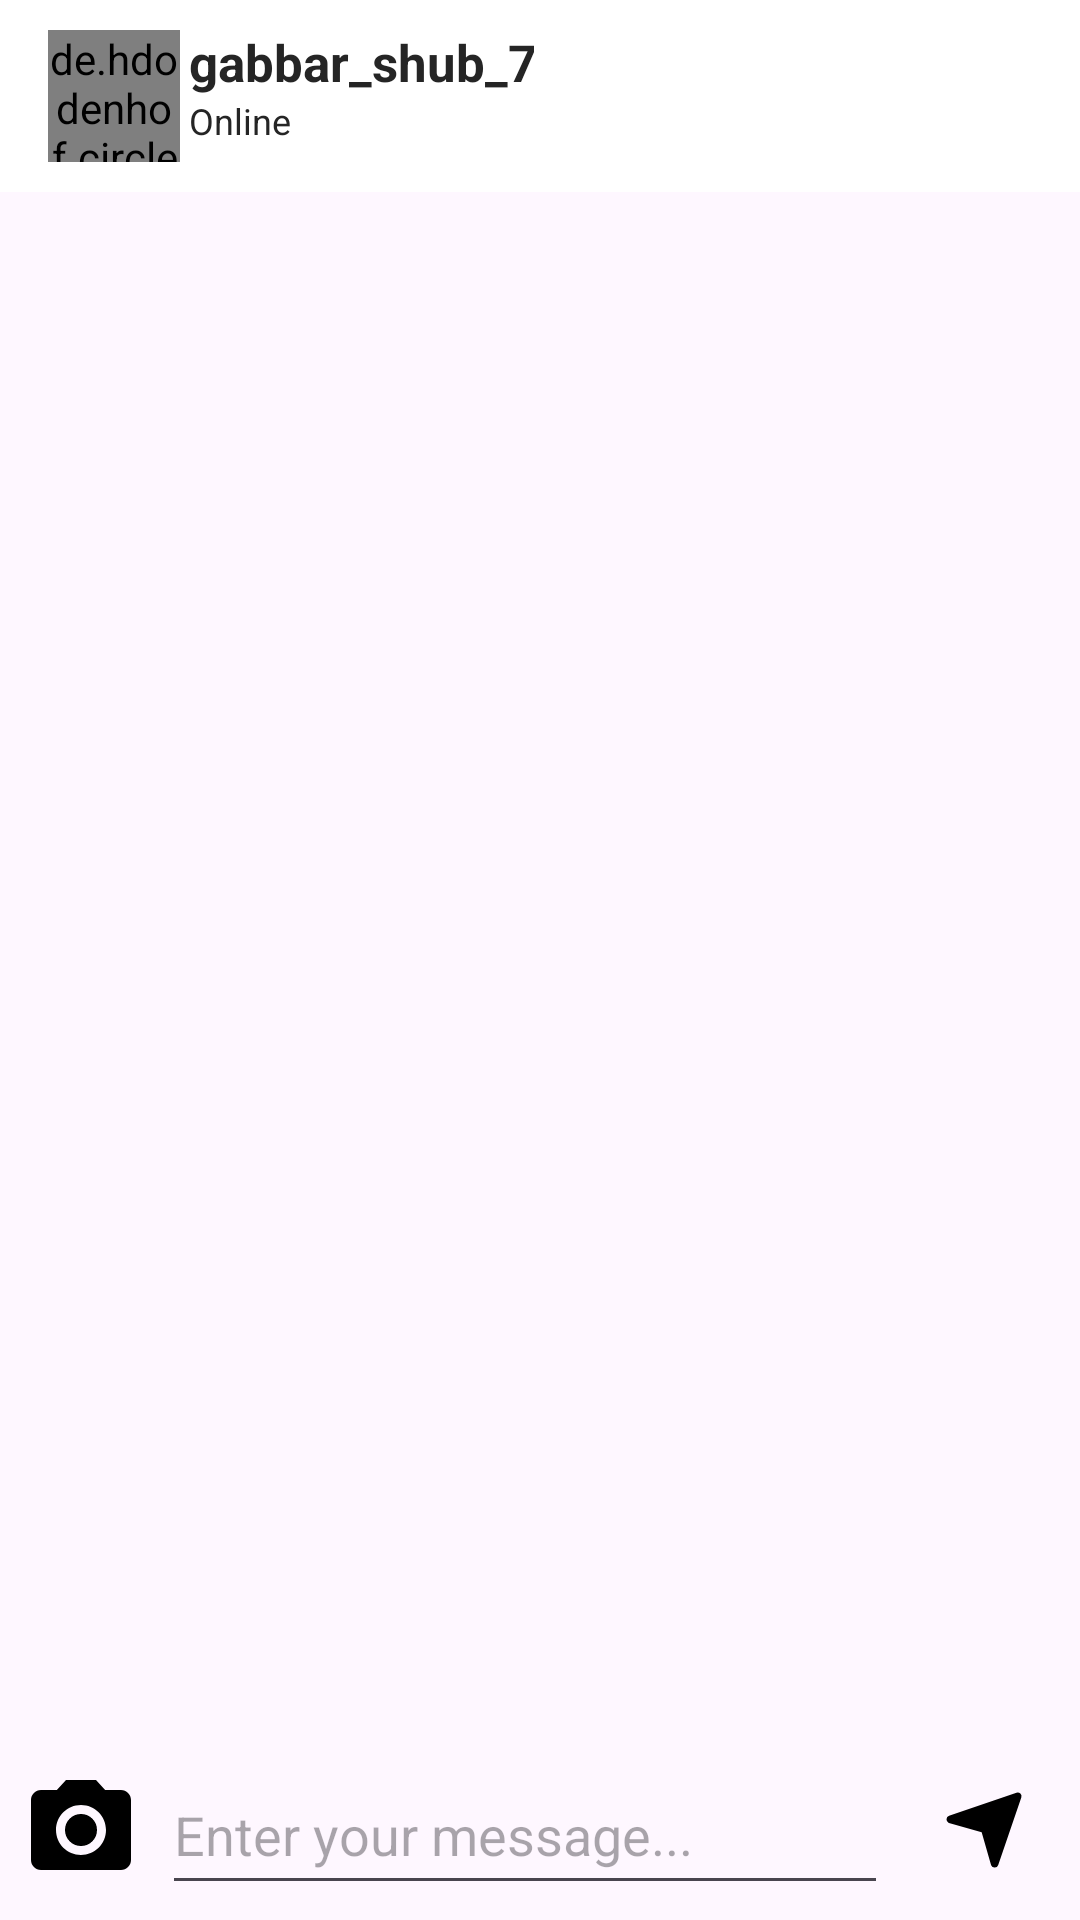

Icon bounding boxes for this 1080px×1920px phone screenshot, format [x1, y1, x2, y2]:
camera: [31, 1780, 131, 1870]
send: [946, 1792, 1022, 1868]
